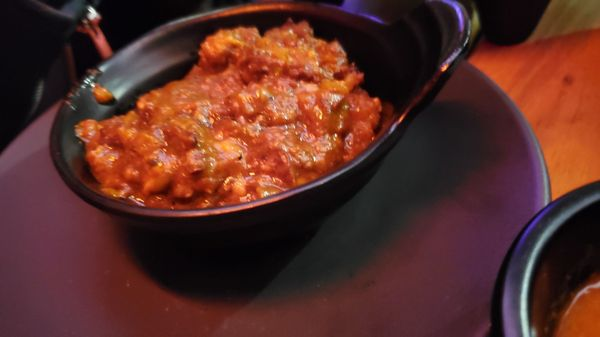sushi: (4, 0, 481, 292), (491, 179, 600, 332)
